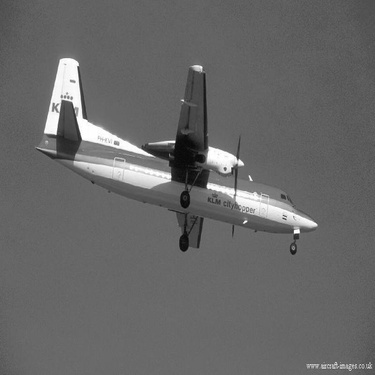airplane: (26, 46, 325, 265)
